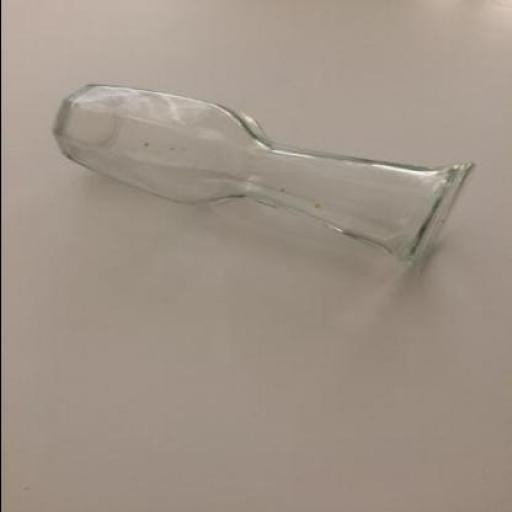glass: (50, 81, 476, 266)
